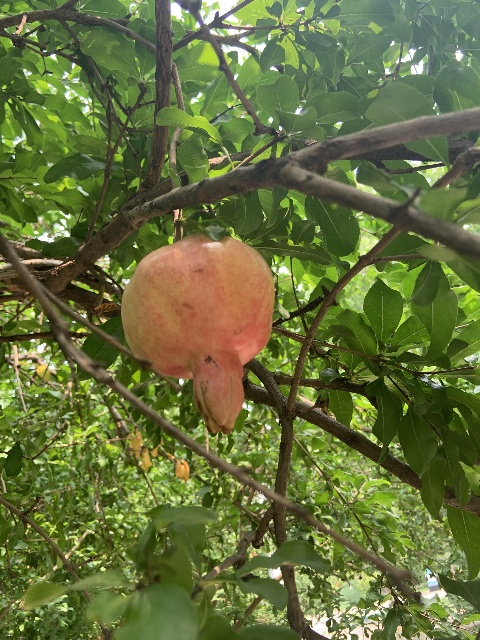ripe: (121, 234, 275, 435)
